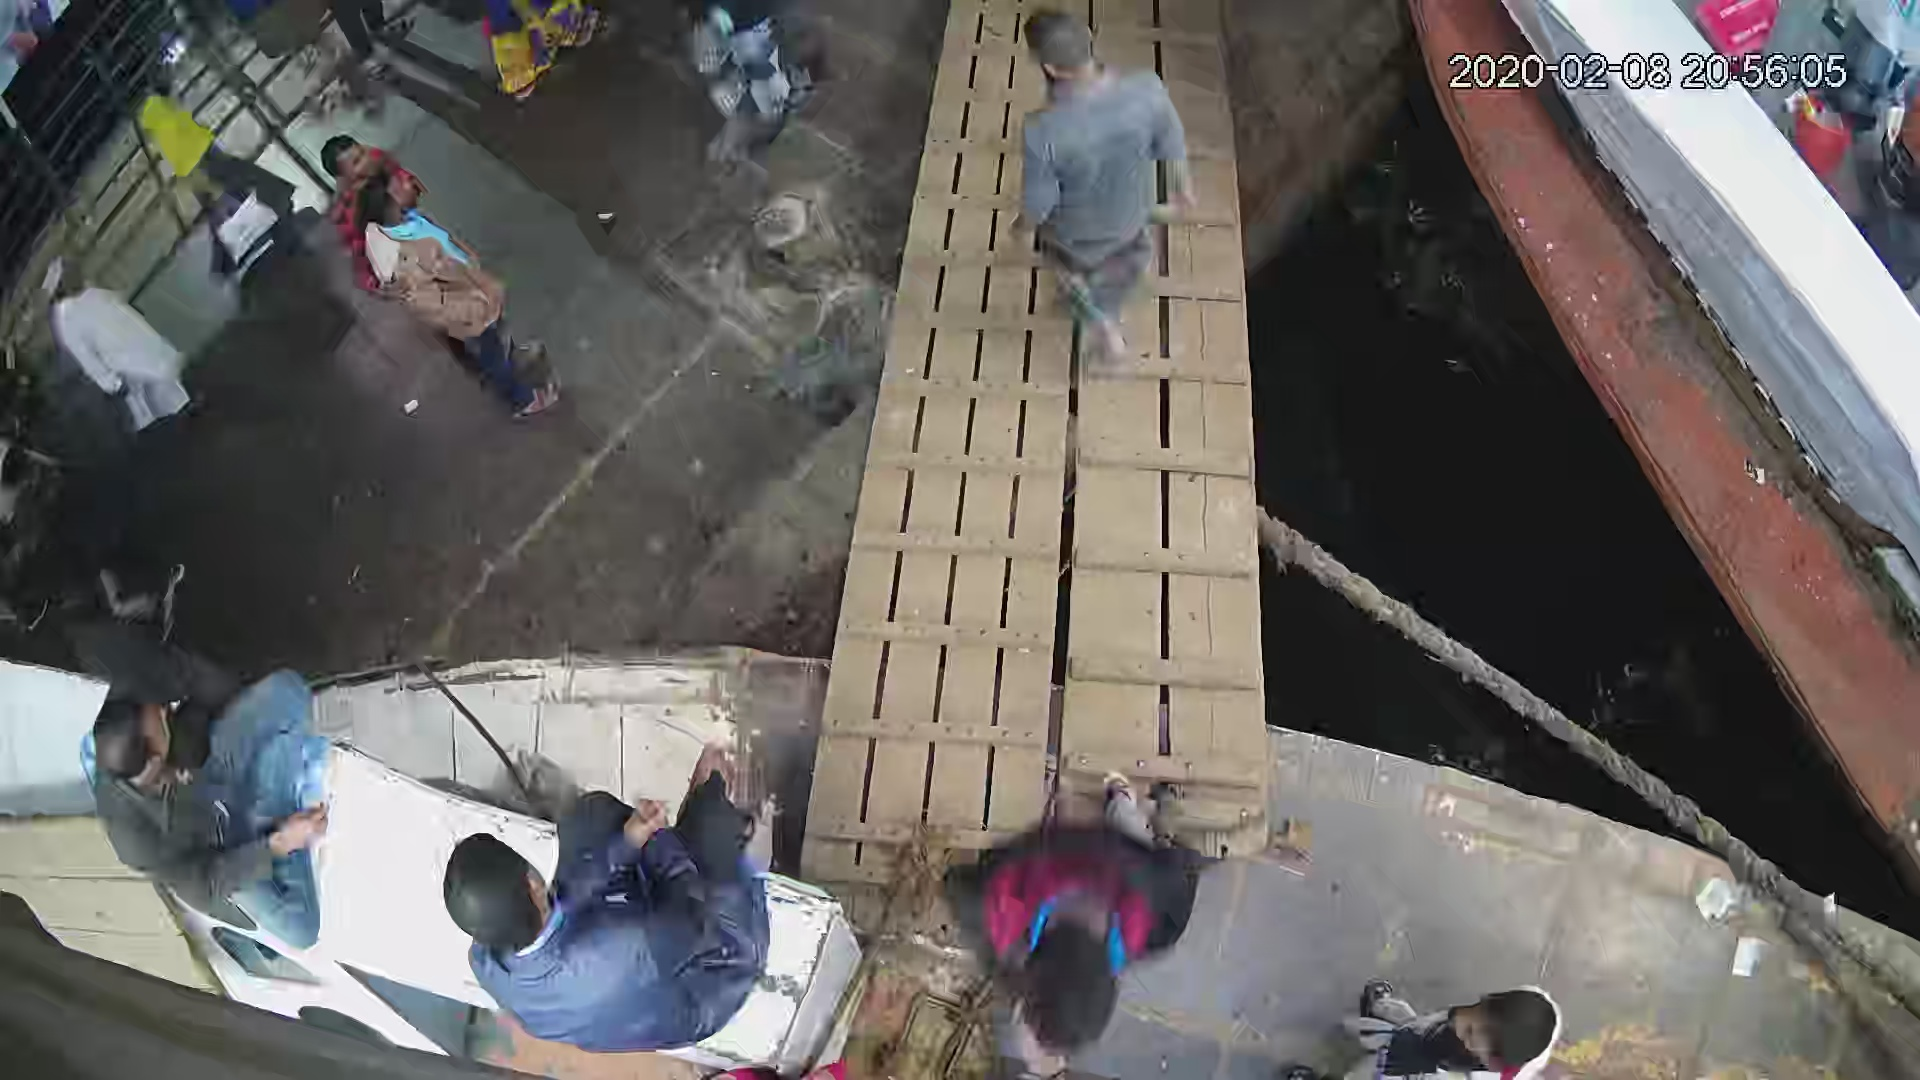person: (423, 739, 779, 1060), (79, 645, 335, 955), (910, 794, 1207, 1045), (994, 13, 1200, 366), (360, 170, 563, 418), (1266, 974, 1576, 1080), (129, 73, 289, 274), (36, 253, 210, 438)
